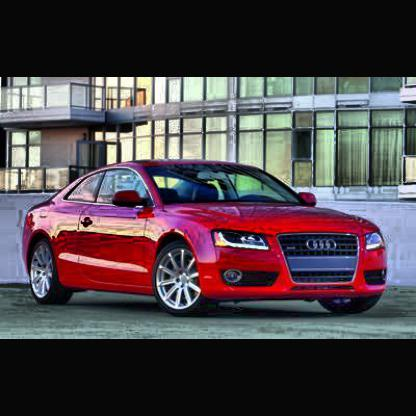Audi A5 Coupe 2012: (24, 158, 394, 322)
